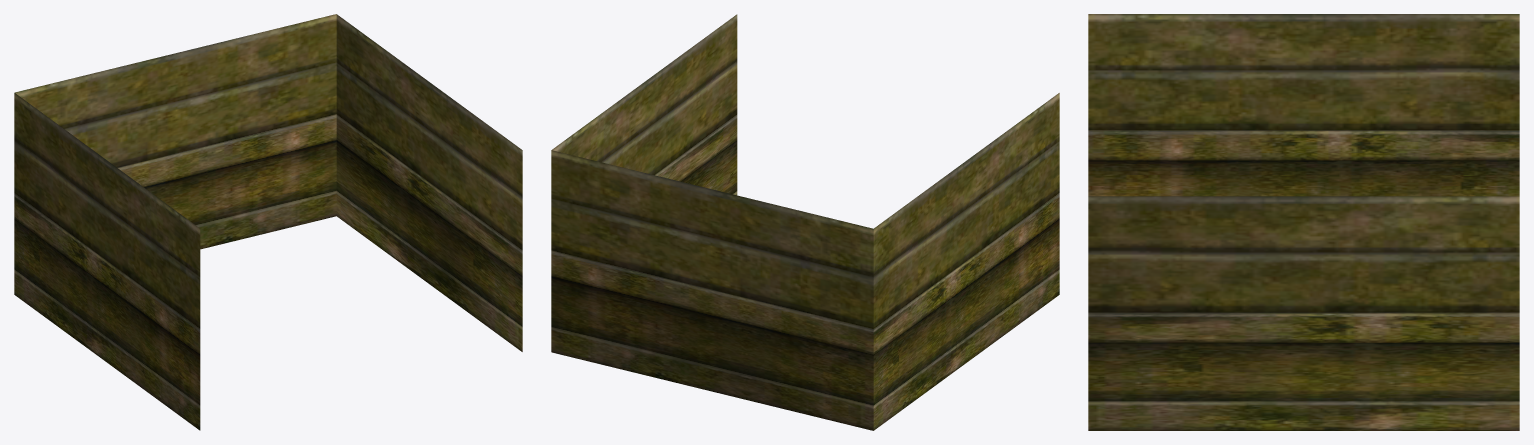
File: OVERHILL_A_01_OBJECT108.fbx
3 renders of one model, left to right at view 1: azimuth 30°, elevation 25°; view 2: azimuth 150°, elevation 25°; view 3: azimuth 270°, elevation 25°, orthographic. The views are drawn at different scales.
Visible parts, largest first — view 1: OVERHILL_A_01_OBJECT108; view 2: OVERHILL_A_01_OBJECT108; view 3: OVERHILL_A_01_OBJECT108.
Part boxes in pixels (x1,y1,x2,y2): OVERHILL_A_01_OBJECT108: (14,14,522,430); OVERHILL_A_01_OBJECT108: (551,14,1059,430); OVERHILL_A_01_OBJECT108: (1088,14,1519,430).
Bounding box in the file's own units: 20000 × 12000 × 20000.
Materials: 2 (2 with a texture image).
